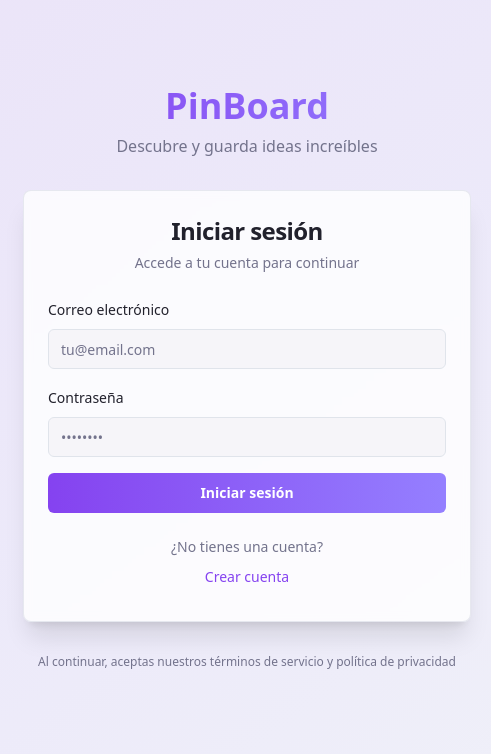
Test: Login Component › debe permitir cambiar al modo registro
Click the button "Crear cuenta". click: x=247, y=577
box: [189,557,305,597]
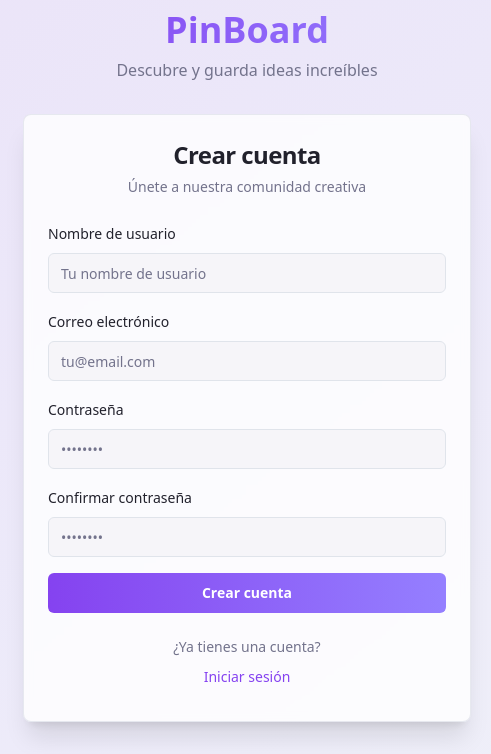
Expected: the button "Crear cuenta" is shown, [48,573,446,613]
Expected: the field labelled "Nombre de usuario" is shown, [48,253,446,293]
Expected: the password field labelled "Confirmar contraseña" is shown, [48,517,446,557]
